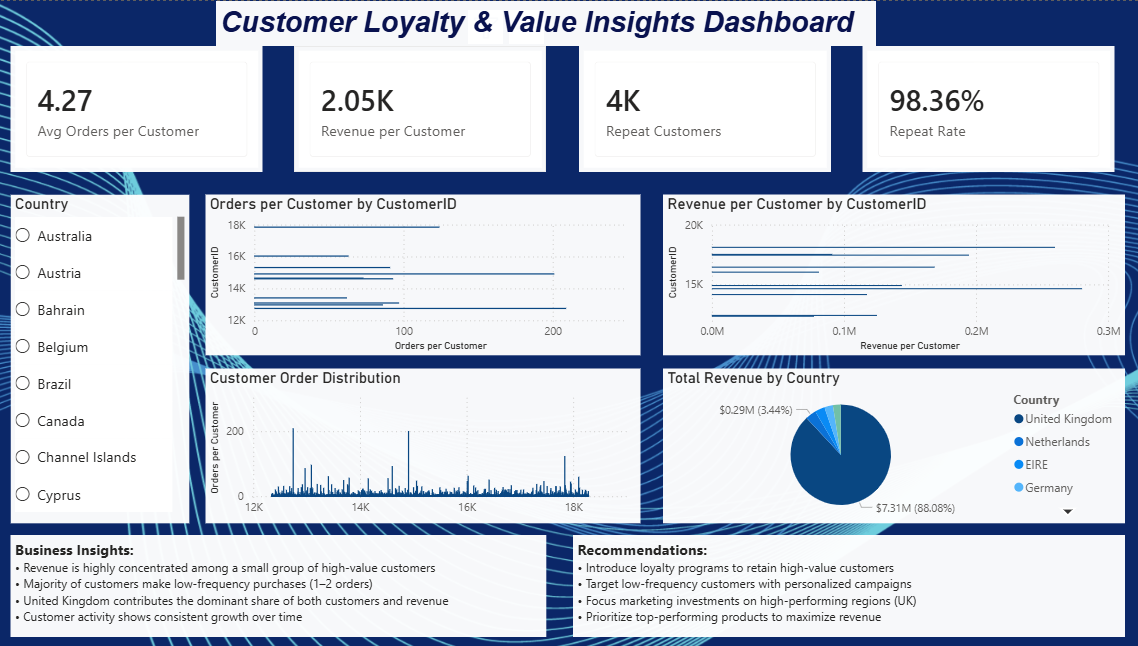

The dashboard page shown, as its layout file describes it:
{"tool":"powerbi","page":{"name":"Page 3","canvas":[1280,720],"ordinal":2},"visuals":[{"type":"cardVisual","fields":{"Data":["Online Retail.Avg Orders per Customer"]},"box":[15,50,280,140],"z":0},{"type":"cardVisual","fields":{"Data":["Online Retail.Revenue per Customer"]},"box":[330.6,50,280,140],"z":1000},{"type":"cardVisual","fields":{"Data":["Online Retail.Repeat Customers"]},"box":[646.1,50,280,140],"z":2000},{"type":"cardVisual","fields":{"Data":["Online Retail.Repeat Rate"]},"box":[961.7,50,280,140],"z":3000},{"type":"clusteredBarChart","fields":{"Category":["Online Retail.CustomerID"],"Y":["Online Retail.Orders per Customer"]},"box":[231.7,215,483.3,178.3],"z":4000},{"type":"clusteredBarChart","fields":{"Category":["Online Retail.CustomerID"],"Y":["Online Retail.Revenue per Customer"]},"box":[740,215,513.3,178.3],"z":5000},{"type":"columnChart","title":"Customer Order Distribution","fields":{"Y":["Online Retail.Orders per Customer"],"Category":["Online Retail.CustomerID"]},"box":[231.7,408.3,483.3,171.7],"z":6000},{"type":"pieChart","fields":{"Y":["Online Retail.Total Revenue"],"Category":["Online Retail.Country"]},"box":[740,408.3,513.3,171.7],"z":7000},{"type":"listSlicer","fields":{"Values":["Online Retail.Country"]},"box":[15,215,198.3,365],"z":7001},{"type":"textbox","box":[15,593.3,595,113.3],"z":7002},{"type":"textbox","box":[640,593.3,613.3,113.3],"z":7003},{"type":"textbox","box":[243.3,0,733.3,50],"z":7004}]}

Visuals, with their boxes in screenshot pixels (x1, y1, x2, y2), scaled from the page's 1280x720 canvas onto the 1138x646 screenshot:
cardVisual - Online Retail.Avg Orders per Customer: Rect(13, 45, 262, 170)
cardVisual - Online Retail.Revenue per Customer: Rect(294, 45, 543, 170)
cardVisual - Online Retail.Repeat Customers: Rect(574, 45, 823, 170)
cardVisual - Online Retail.Repeat Rate: Rect(855, 45, 1104, 170)
clusteredBarChart - Online Retail.CustomerID x Online Retail.Orders per Customer: Rect(206, 193, 636, 353)
clusteredBarChart - Online Retail.CustomerID x Online Retail.Revenue per Customer: Rect(658, 193, 1114, 353)
"Customer Order Distribution" columnChart: Rect(206, 366, 636, 520)
pieChart - Online Retail.Total Revenue x Online Retail.Country: Rect(658, 366, 1114, 520)
listSlicer - Online Retail.Country: Rect(13, 193, 190, 520)
textbox: Rect(13, 532, 542, 634)
textbox: Rect(569, 532, 1114, 634)
textbox: Rect(216, 0, 868, 45)
